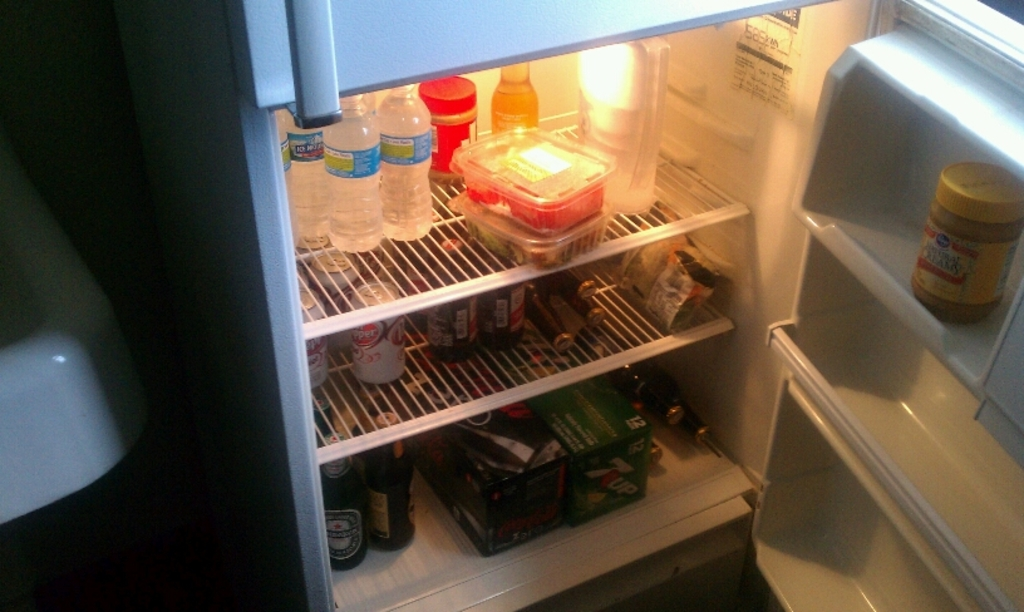handle: (276, 18, 355, 127)
refrigerator door: (842, 71, 1024, 612), (247, 3, 599, 65)
